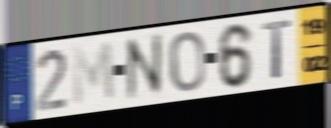2: (34, 47, 70, 115)
6: (216, 21, 255, 90)
M: (70, 39, 118, 109)
N: (124, 30, 166, 105)
O: (167, 29, 207, 95)
T: (261, 17, 294, 81)
